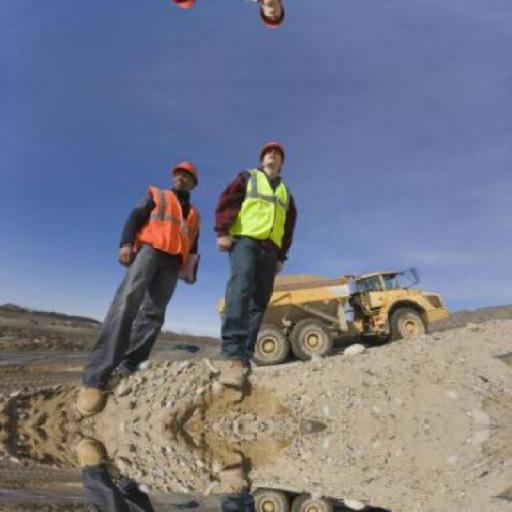helmet: (164, 154, 206, 192), (250, 134, 292, 169)
vest: (221, 166, 303, 256), (126, 184, 204, 275)
